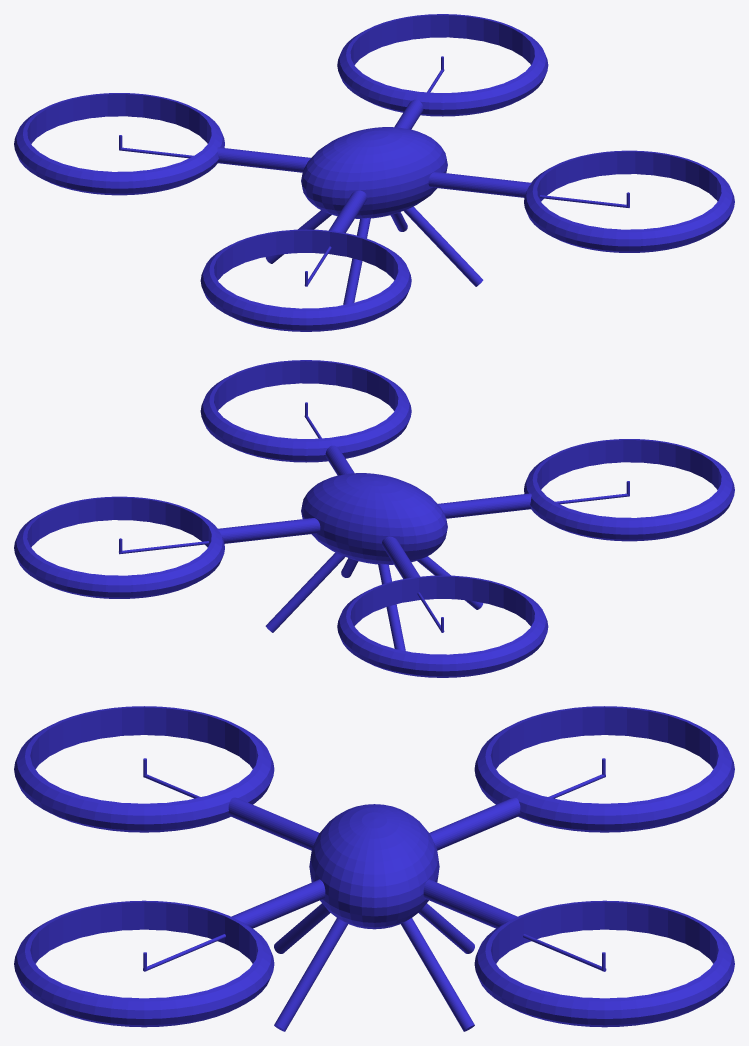
The model's file is drone_base.dae.
3 renders of one model, top to bottom at view 1: azimuth 30°, elevation 25°; view 2: azimuth 150°, elevation 25°; view 3: azimuth 270°, elevation 25°, orthographic. The views are drawn at different scales.
Parts seen in each view (by area): view 1: drone_base; view 2: drone_base; view 3: drone_base.
Boxes of the visible parts, x1,y1,x2,y2 form: drone_base: (14,14,734,331); drone_base: (14,360,734,677); drone_base: (14,706,734,1031).
Bounding box in the file's own units: 11.07 × 11.07 × 2.93.
